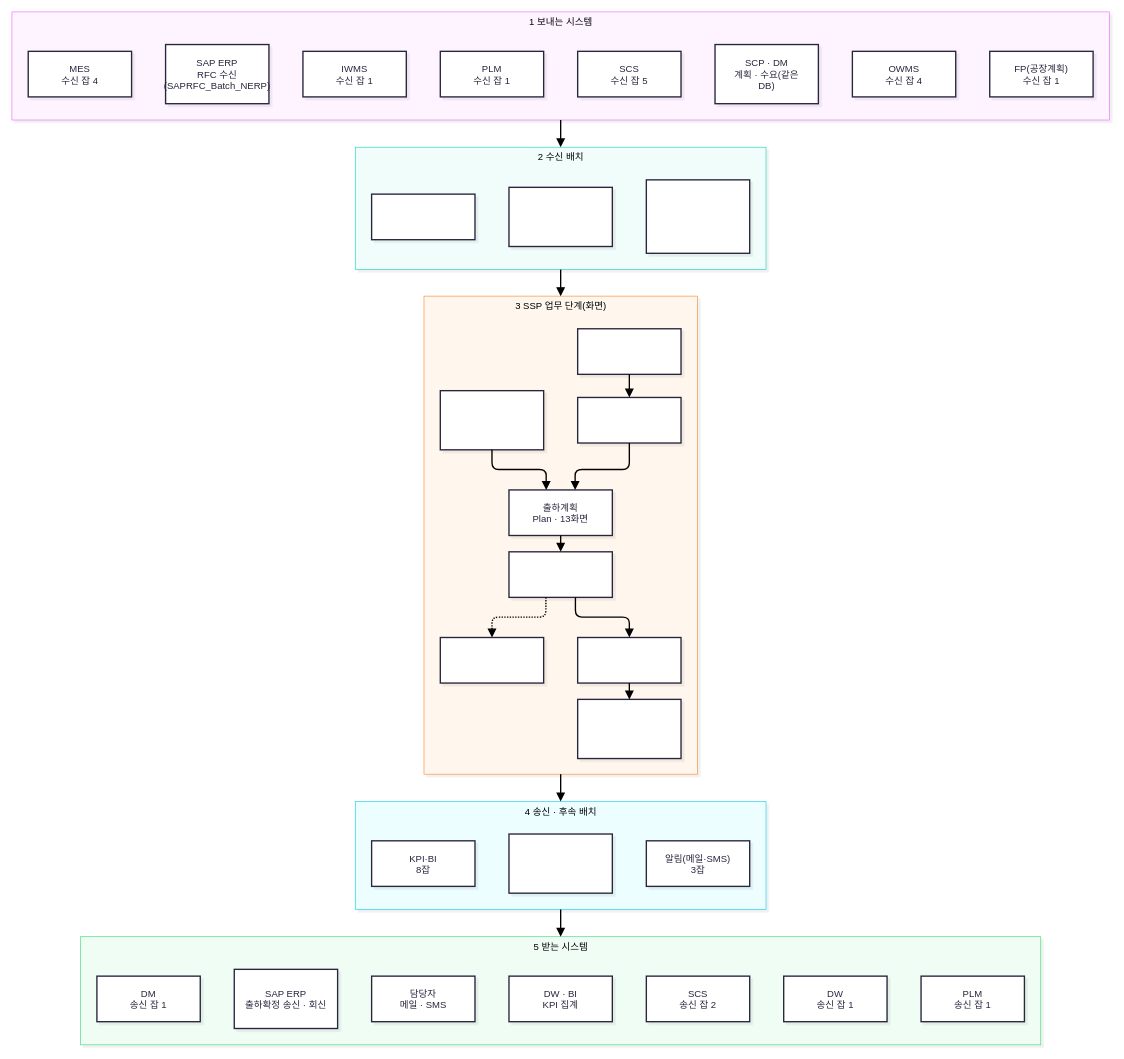
Some shapes in this 1124 by 1059 pixel diagram are drawn without their labels. Here are the shapes that lost their labels. From the top down, the centre of each, then its label:
pixel 424 218: 동기화·마스터·운영 3잡
pixel 561 218: 수신 I/F(외부 → SSP) 14잡
pixel 699 217: 외부 연계 데이터 적재(SCM_DNM·SSP_DNM) 2잡
pixel 630 352: 기준정보 Master · 9화면
pixel 493 421: 집계 · 계획 생성 배치 13잡
pixel 630 421: 출하요청 Request · 6화면
pixel 561 575: 출하확정 Confirm · 3화면
pixel 493 661: 분석 · 조회 Analysis · 5화면
pixel 630 661: 변경요청 Change · 5화면
pixel 630 730: 변경확정 ChangeConfirm · 2화면
pixel 561 864: 송신 I/F(SSP → 외부) 8잡
